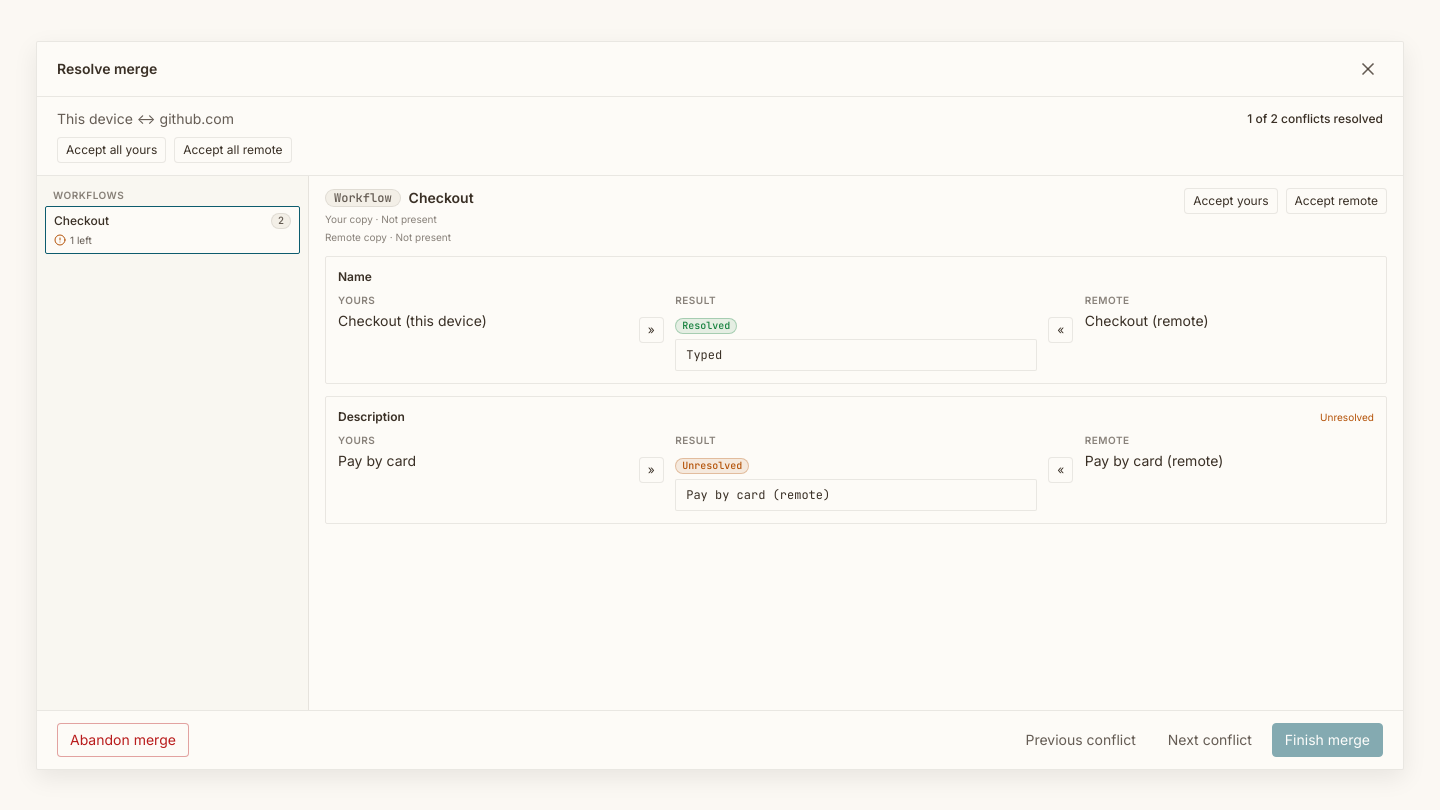
it: MergeView › confirms that accepting an item replaces values the user typed
Step 1. Click the button with aria-label "Accept all remote copies in Checkout" → [1336, 200], box [1286,188,1387,214]
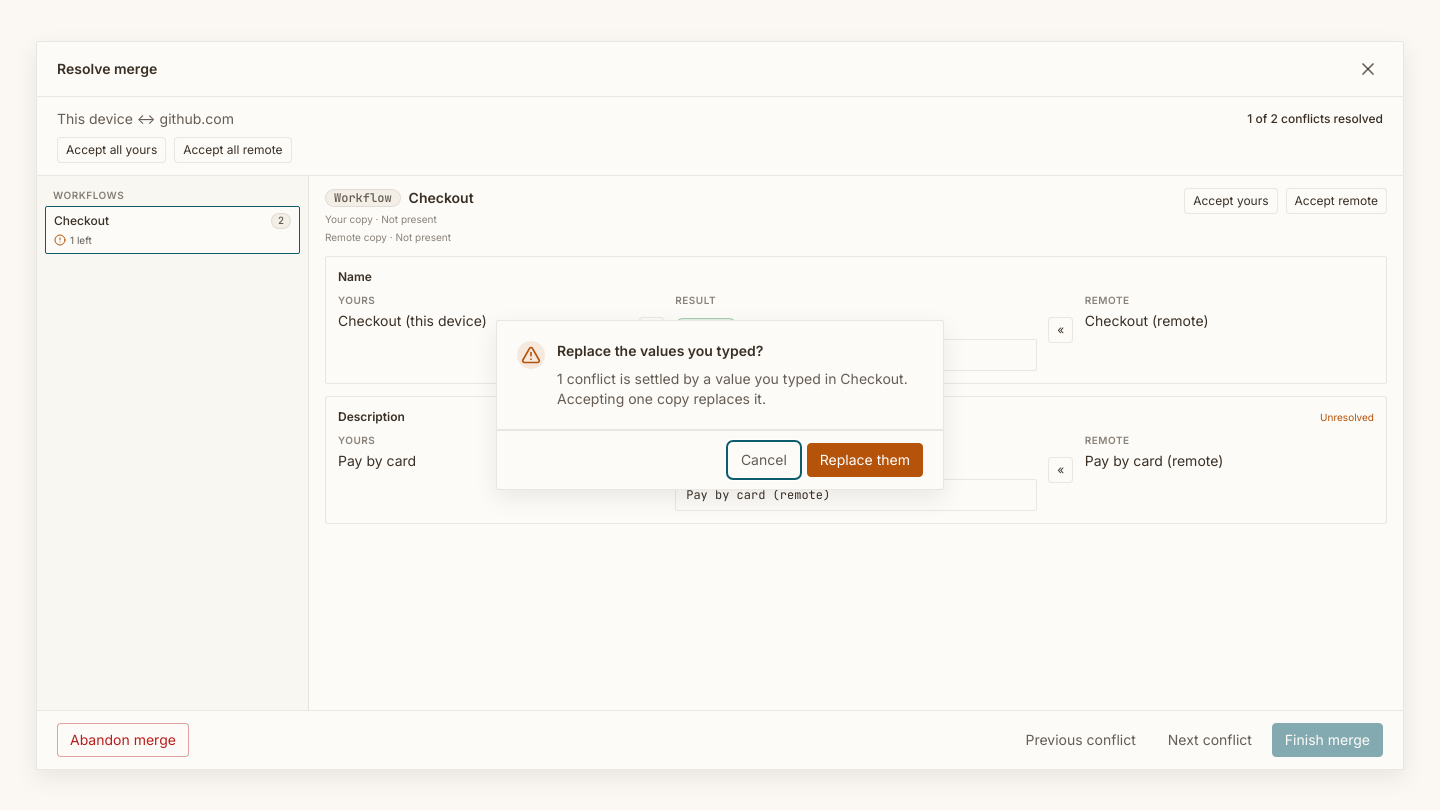
Step 2. Click the button "Replace them" → [865, 460], box [807,443,923,477]
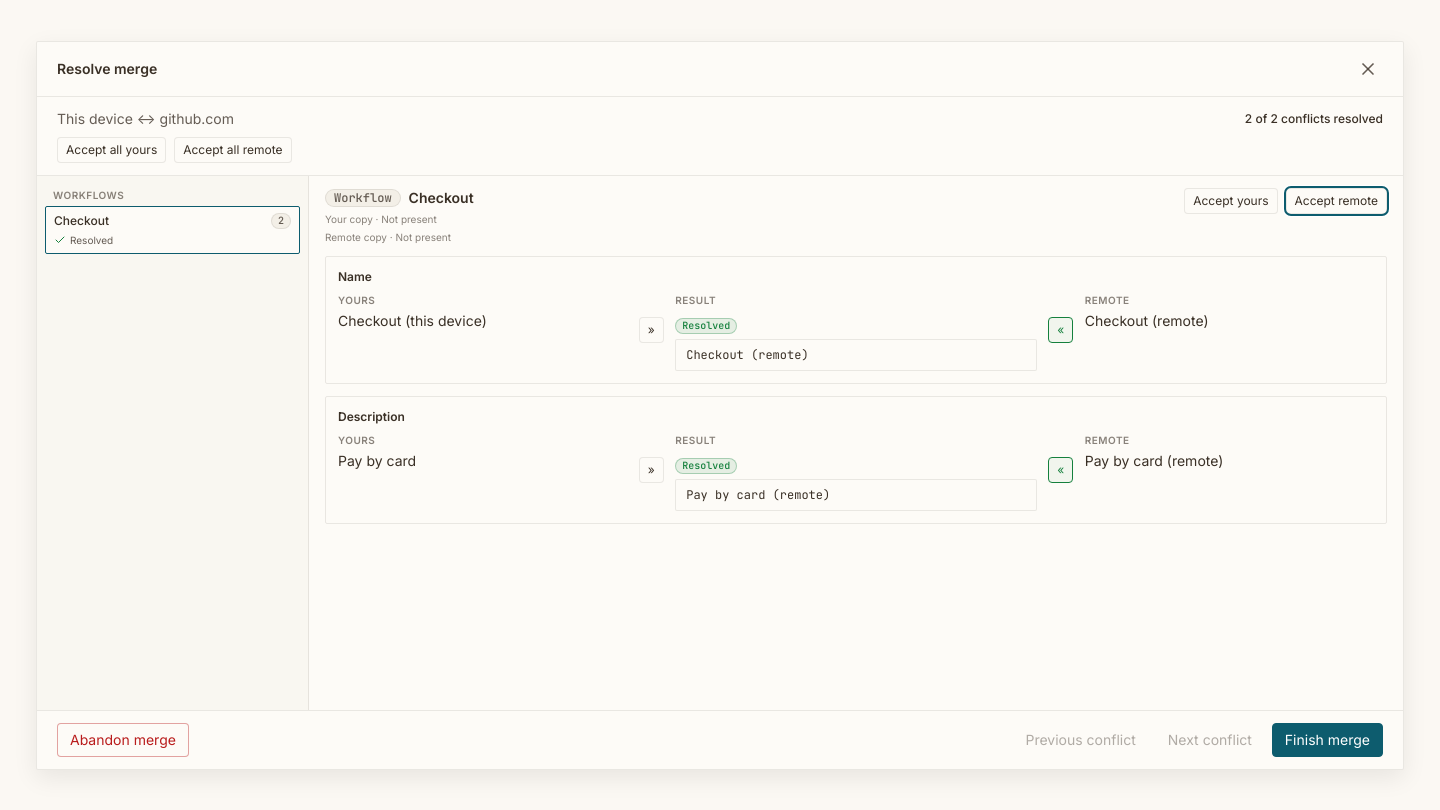
Check: the message reads "2 of 2 conflicts resolved", box [1245,110,1383,126]
